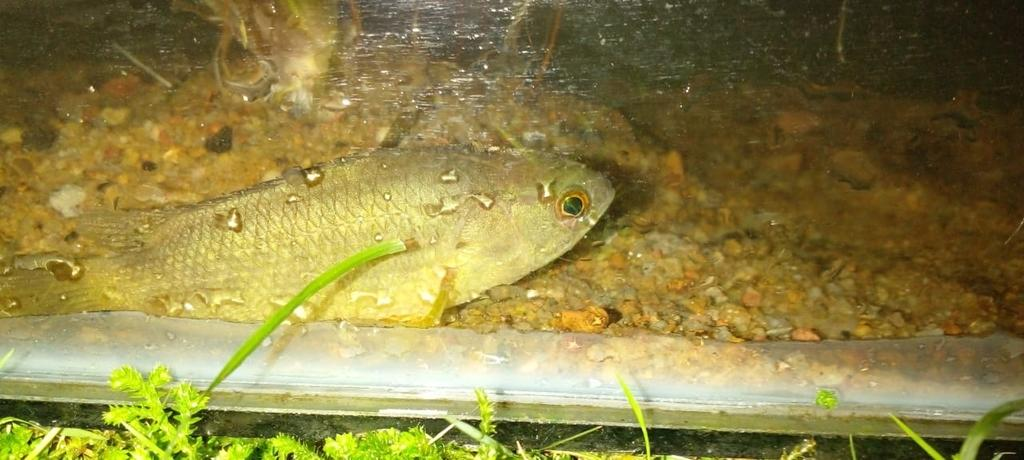Climbing Perch: (6, 146, 613, 330)
